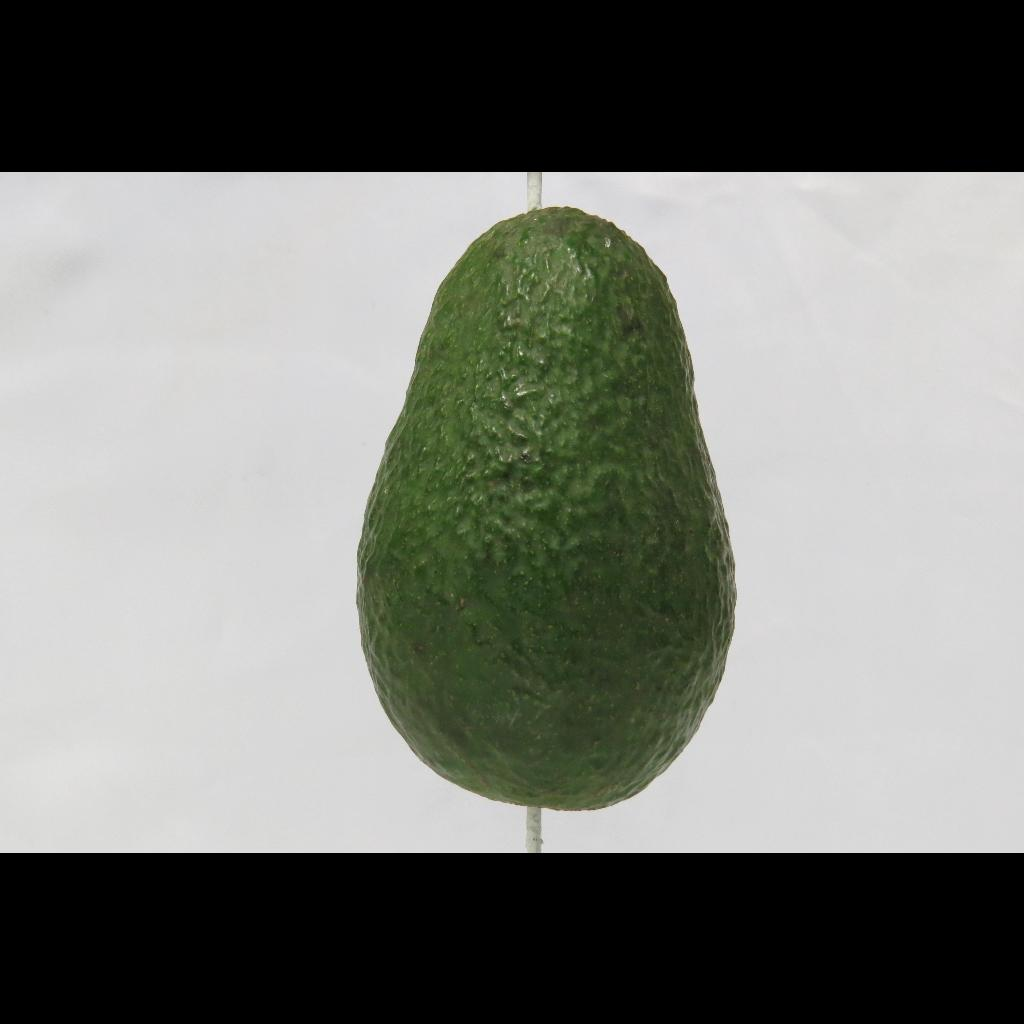Healthy: (335, 188, 767, 824)
